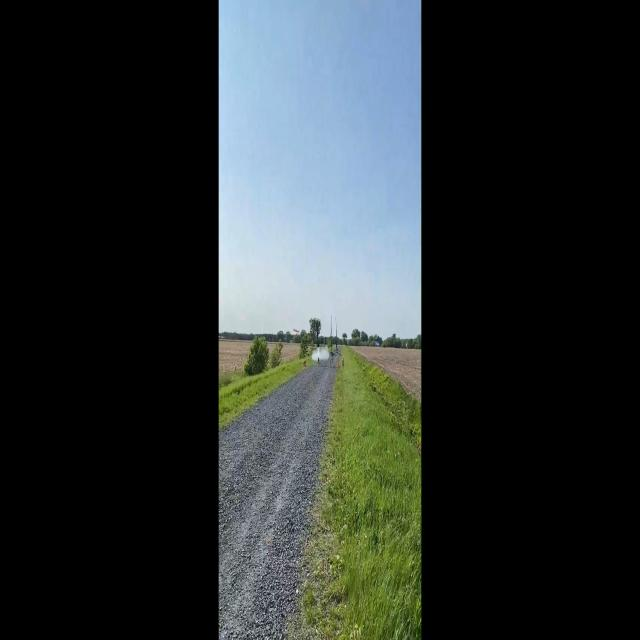Rocket: (316, 325, 320, 348)
